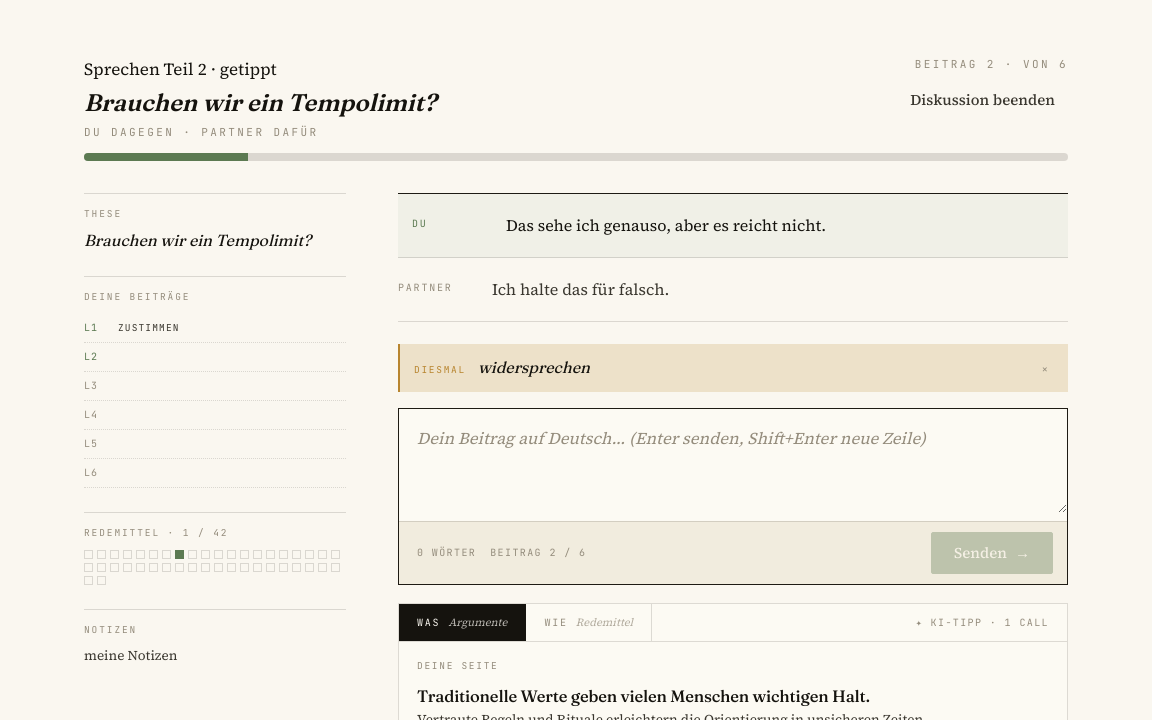
Test: Teil2Runner drawer › marks unused Moves ·neu
What coordinates should you click on to do the following:
click the 2nd button with class "spr-dtab"
I would click on:
 (589, 622)
Its box is [526,604,652,641].
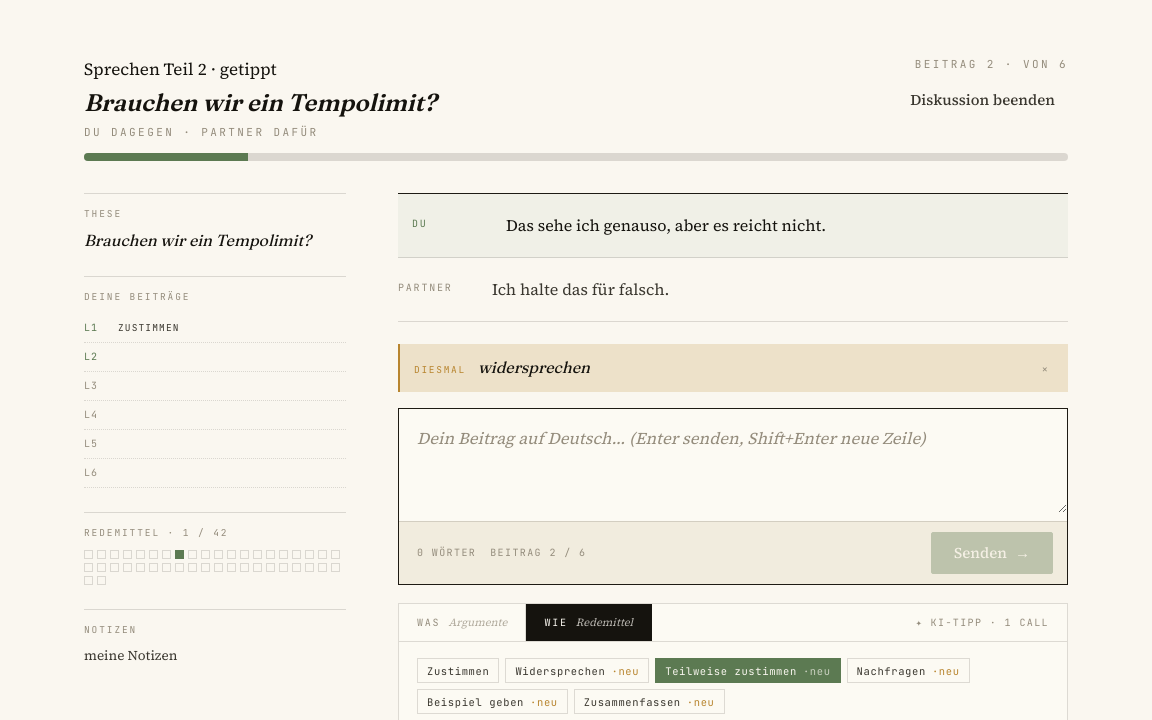
Expected: the button with class "fresh" showing "Widersprechen" is shown, [505,658,649,683]
